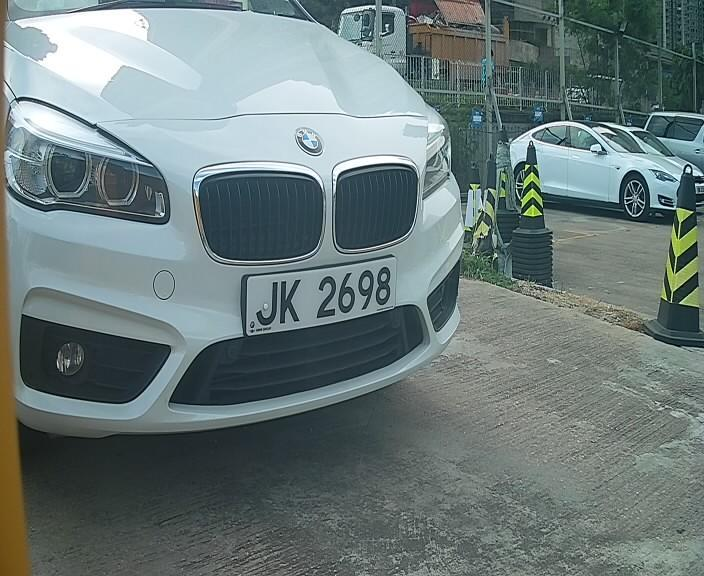privatecar: (8, 1, 481, 454)
